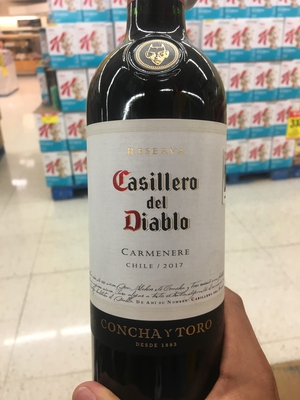casillero del diablo carmenere: (76, 16, 241, 400)
